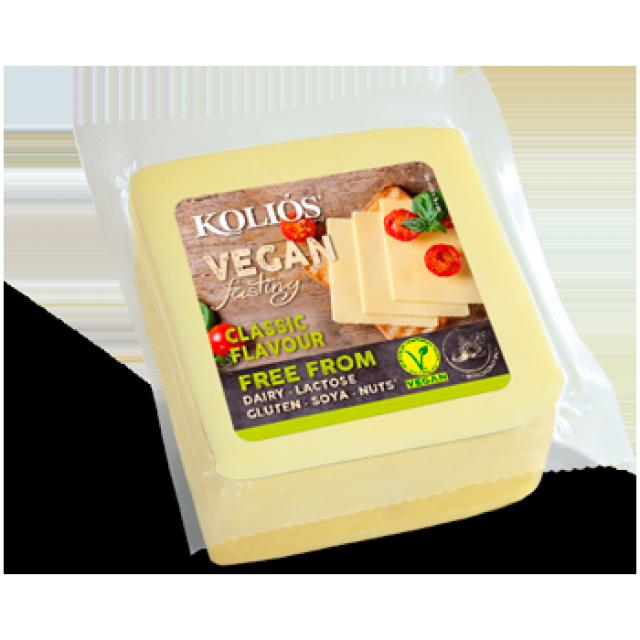cheese: (119, 124, 564, 564)
